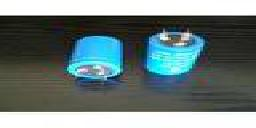Electrolytic-Capacitor: (143, 24, 206, 78), (67, 32, 126, 84)
